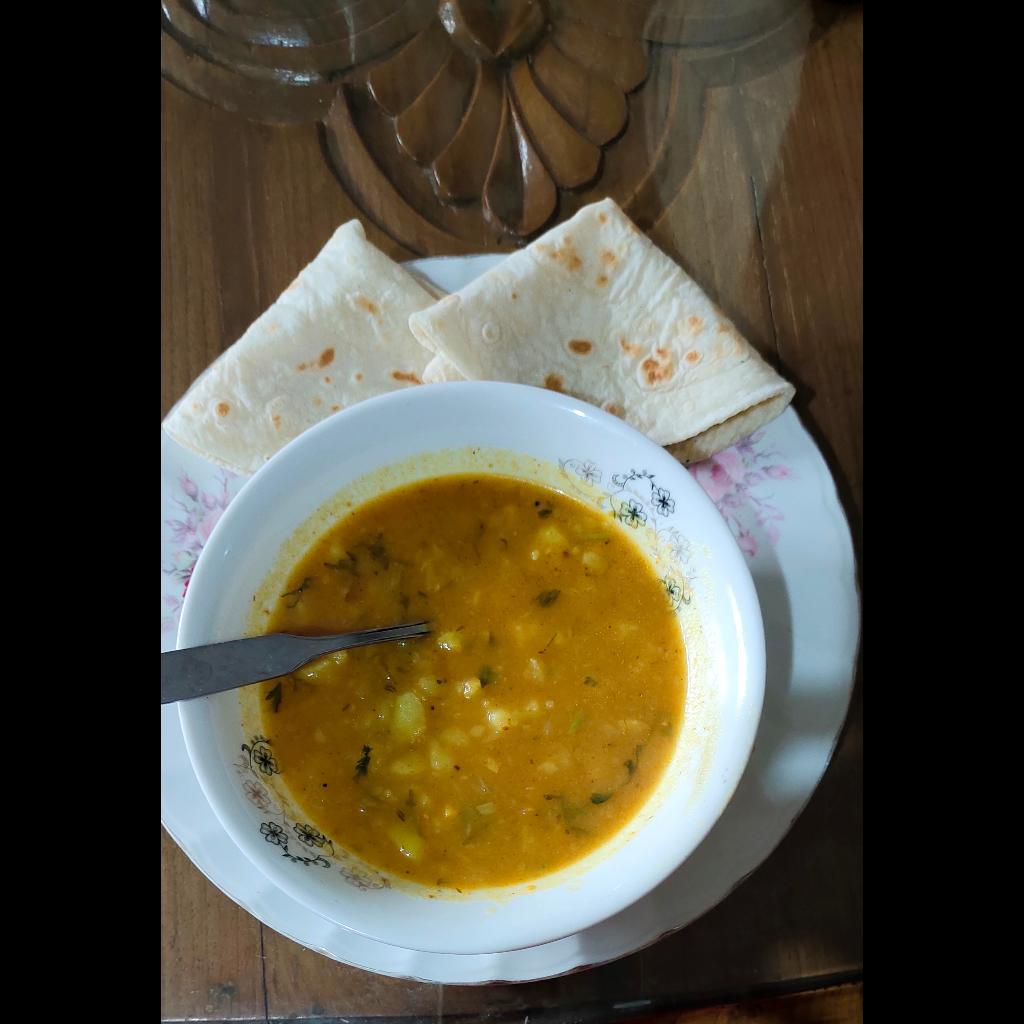daal: (252, 470, 688, 890)
ruti: (161, 188, 800, 483)
